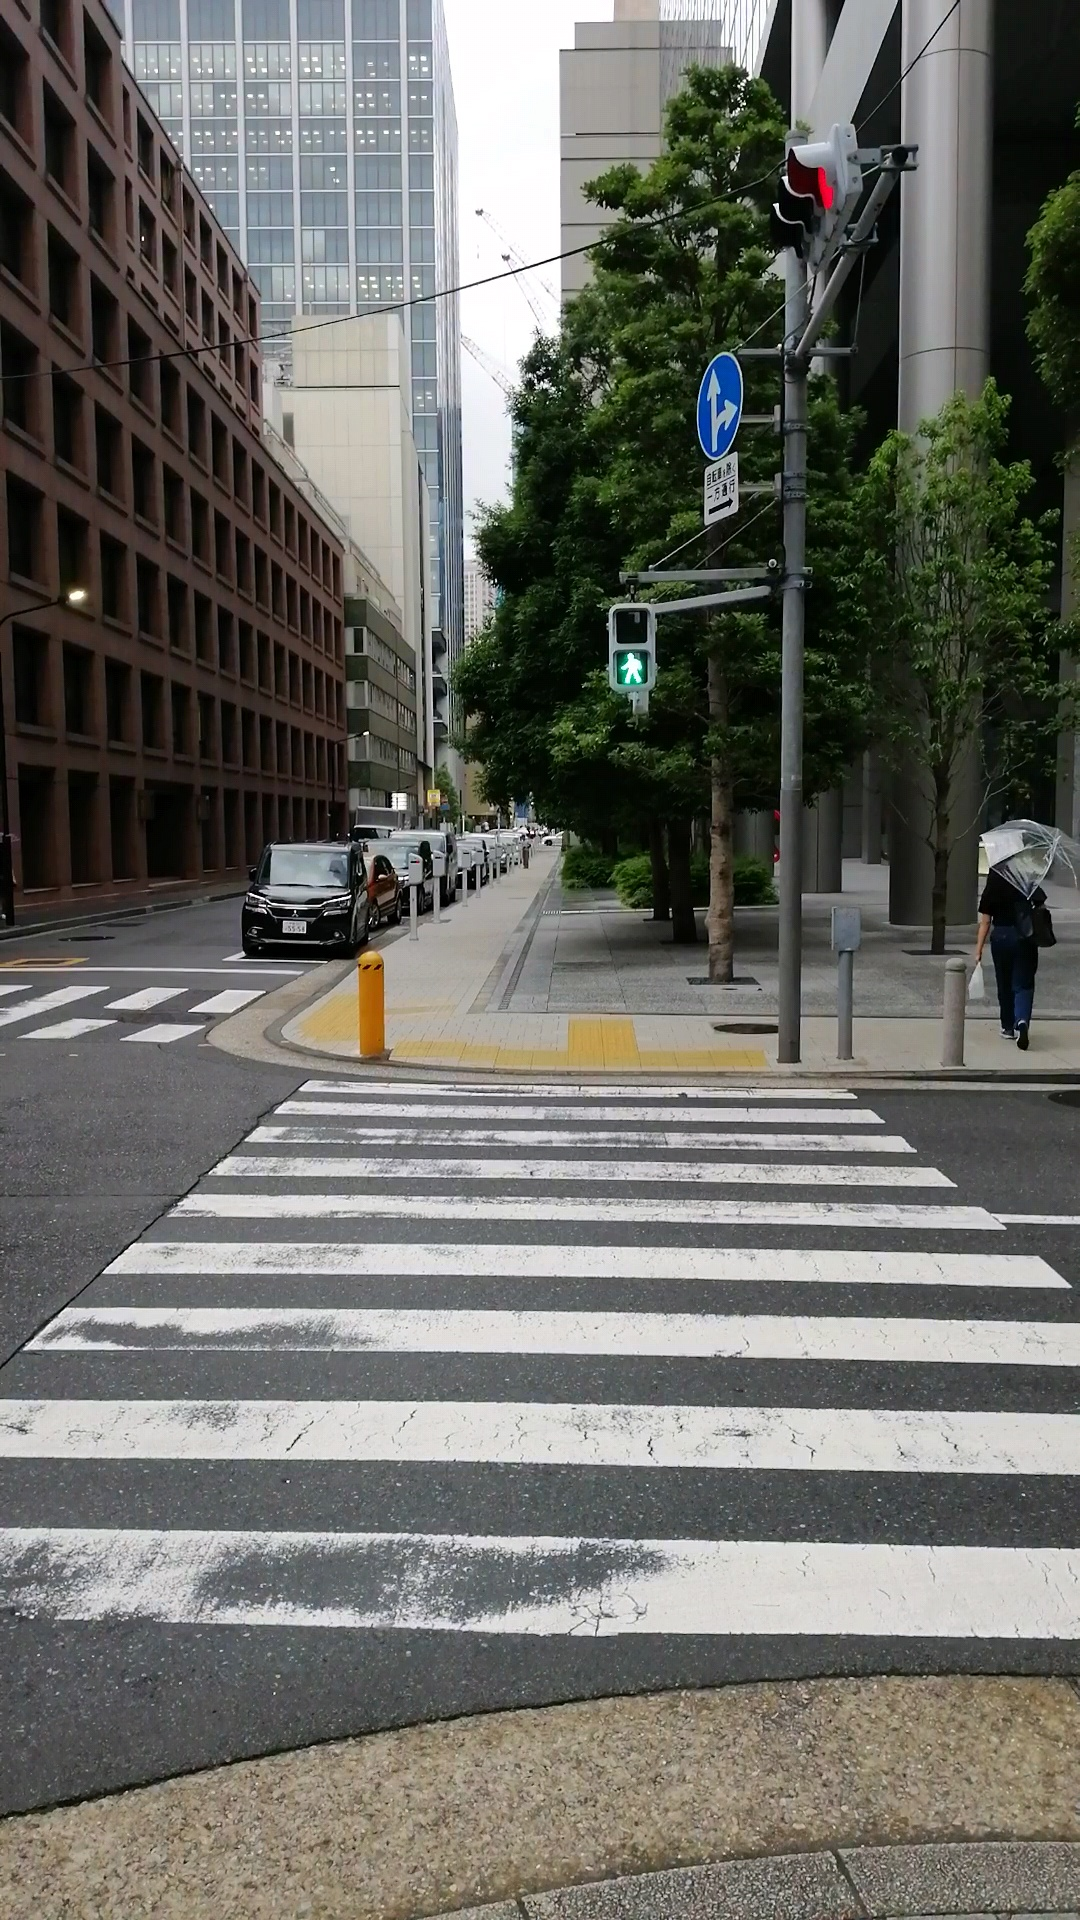green: (605, 603, 655, 694)
